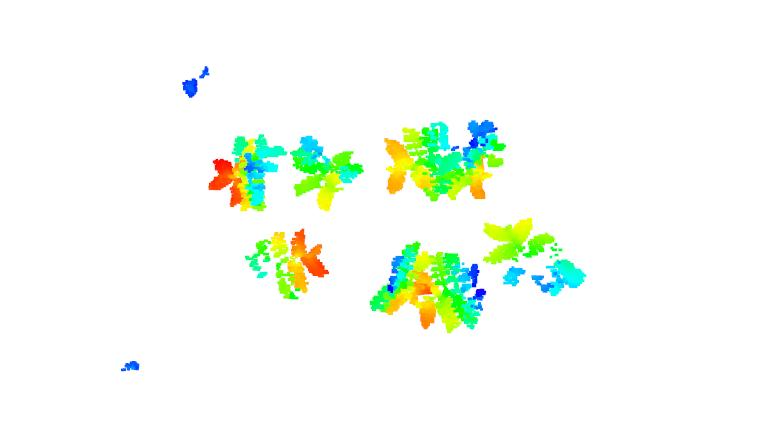chickpea: (480, 217, 588, 298), (379, 120, 462, 203), (244, 225, 332, 303), (206, 133, 285, 211), (287, 134, 365, 209), (418, 250, 486, 331), (369, 239, 432, 319), (453, 118, 506, 200)
